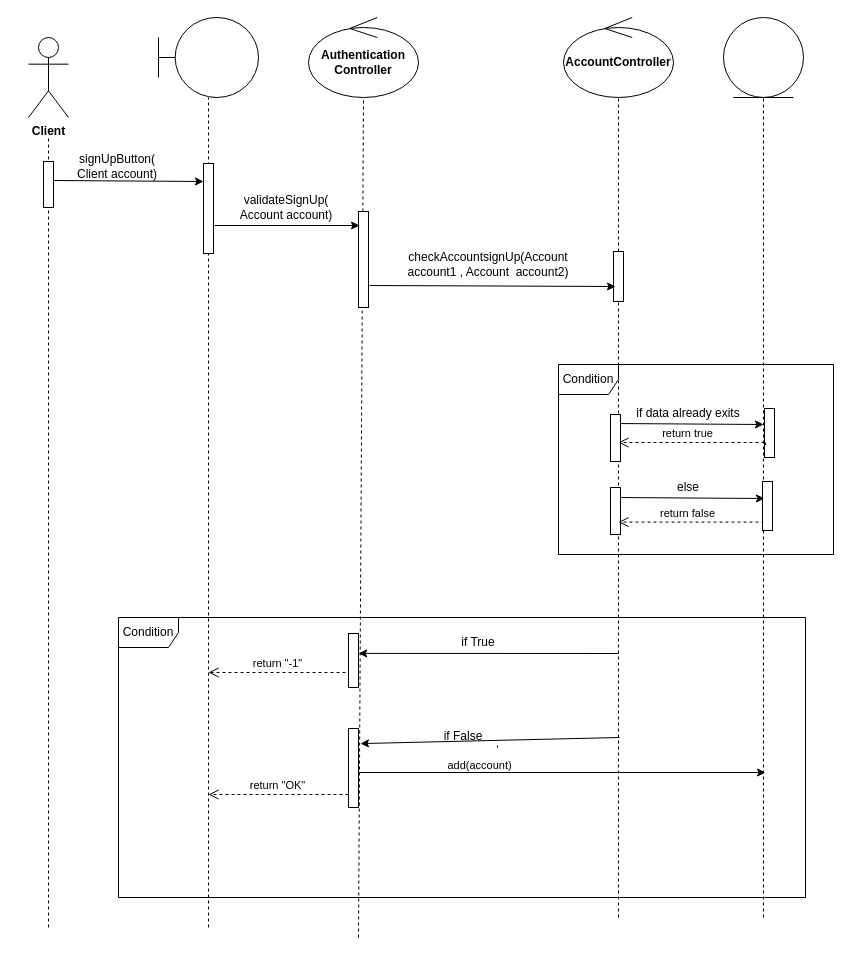
The diagram is 851 pixels wide and 956 high, and some of its shapes have lost their labels. The shapes that lost their labels are listed below. From the top down, each one's box as (x1, y1, x2, y2) in pixels, then its label:
(158, 16, 258, 98): ClientAPI
(722, 16, 804, 98): Database
